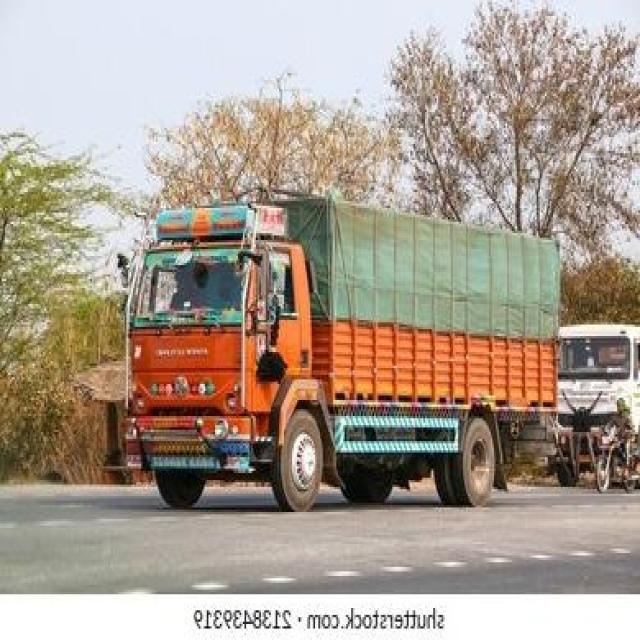Truck: (109, 176, 566, 509), (556, 309, 638, 460)
